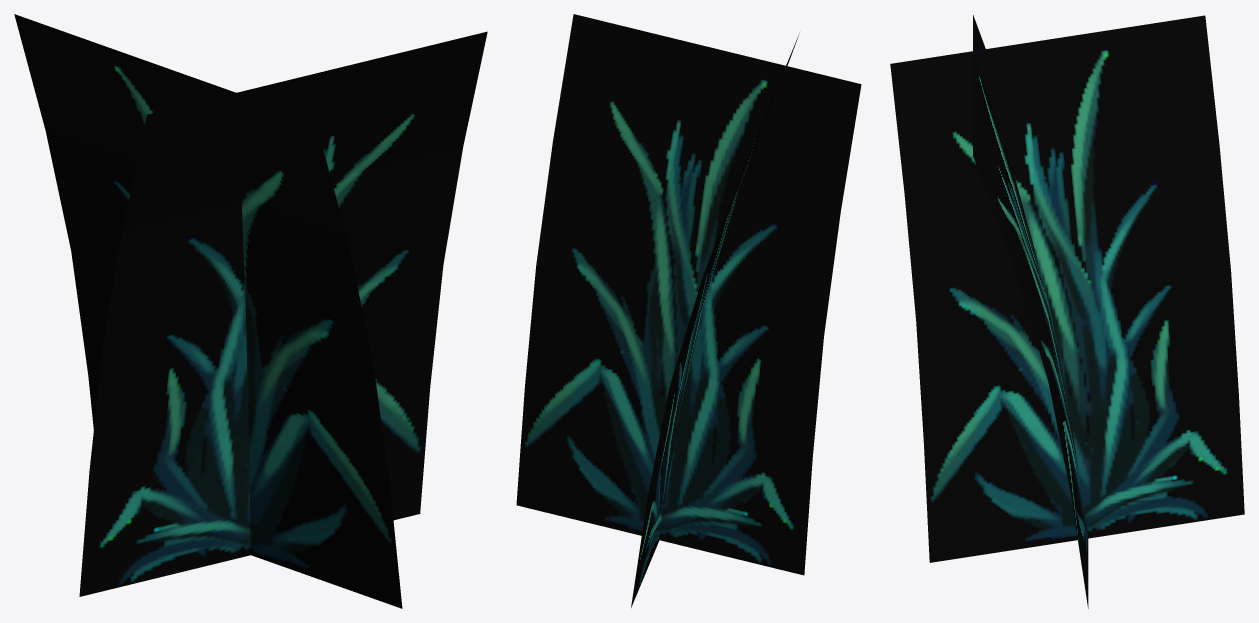
Rendered from grass small.fbx.
3 views of the same model, side by side, from view 1: azimuth 30°, elevation 25°; view 2: azimuth 150°, elevation 25°; view 3: azimuth 270°, elevation 25° (orthographic). The views are drawn at different scales.
Visible parts, largest first — view 1: Plane.002; view 2: Plane.002; view 3: Plane.002.
Part boxes in pixels (x1,y1,x2,y2): Plane.002: (14,14,487,608); Plane.002: (516,14,861,607); Plane.002: (890,15,1244,608).
Bounding box in the file's own units: 35.49 × 52.95 × 37.52.
